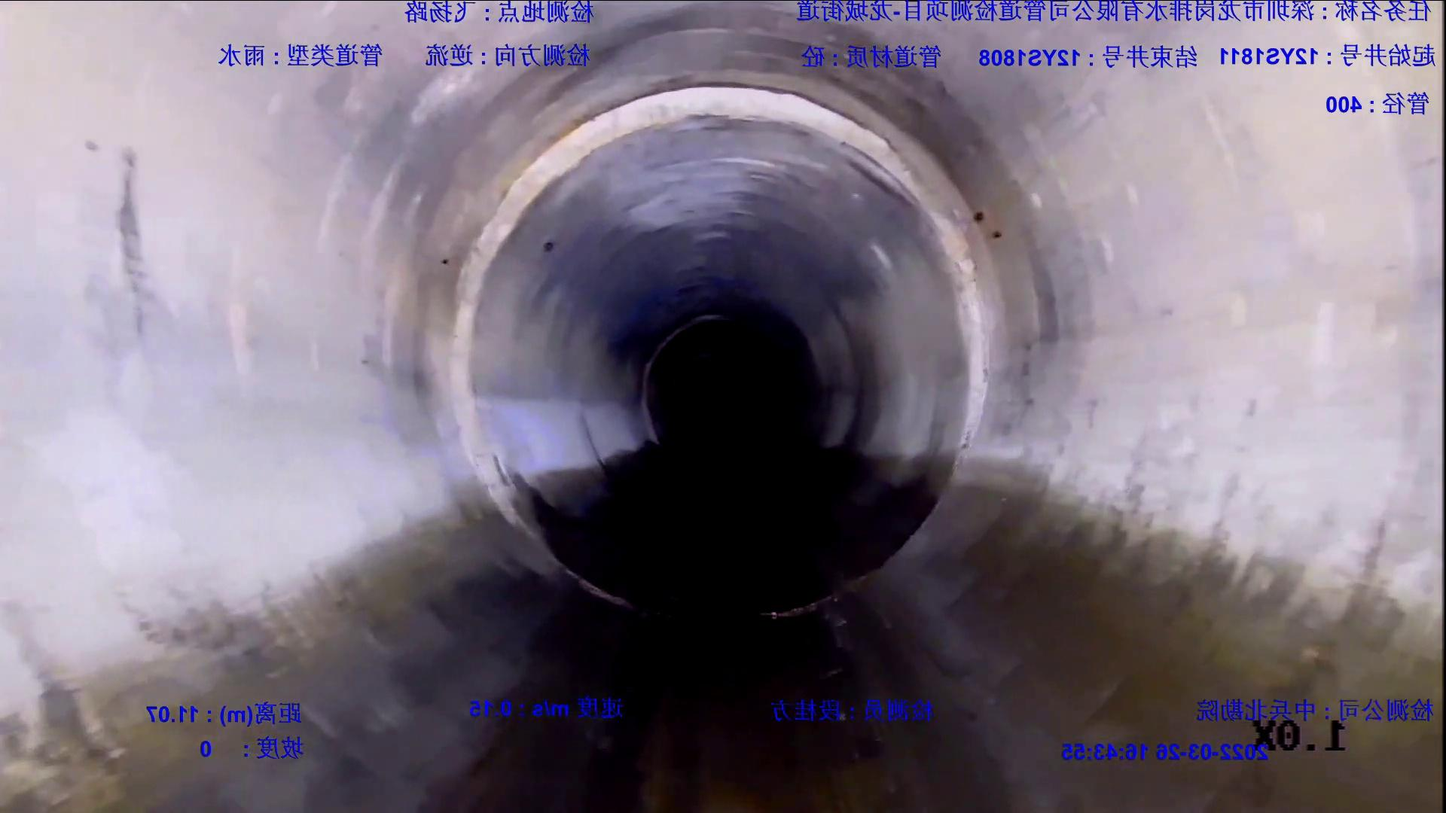CKTJ: (449, 87, 988, 534)
